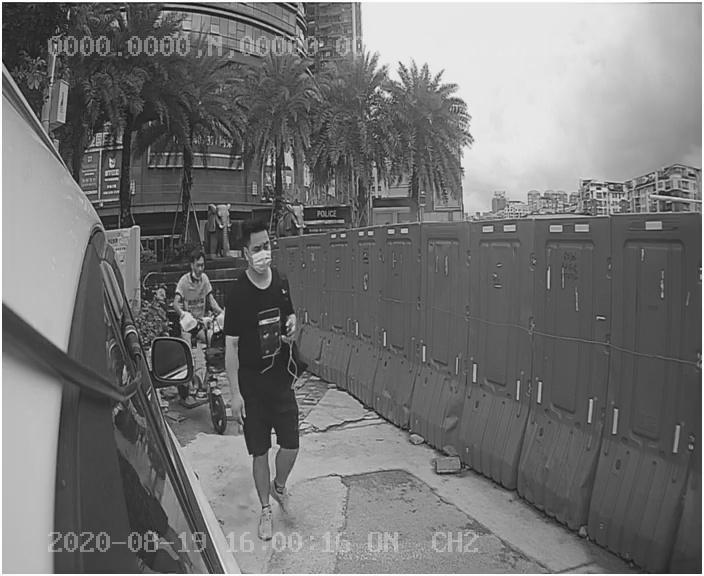person: (217, 222, 335, 530)
